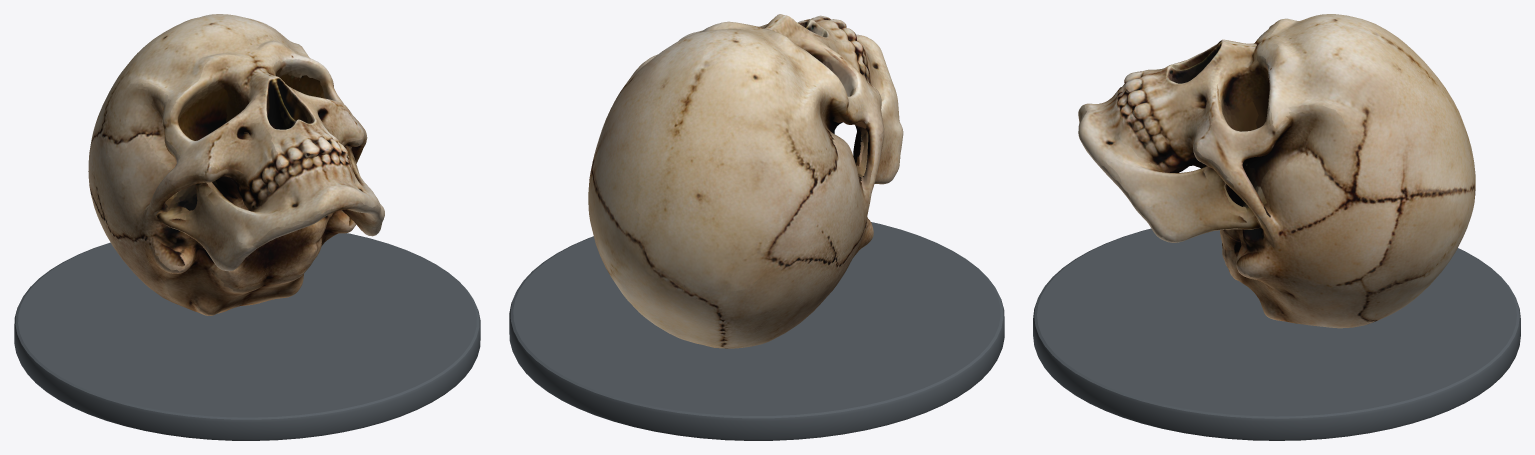
The model's file is death-skull-c1d9470a2def.glb.
The picture shows the model from 3 angles, left to right: view 1: azimuth 30°, elevation 25°; view 2: azimuth 150°, elevation 25°; view 3: azimuth 270°, elevation 25°; orthographic projection. The views are drawn at different scales.
Parts seen in each view (by area): view 1: death-skull_round_base, death-skull_bone; view 2: death-skull_bone, death-skull_round_base; view 3: death-skull_bone, death-skull_round_base.
Boxes of the visible parts, left/top/right/bottom form: death-skull_round_base: left=14, top=233, right=480, bottom=440; death-skull_bone: left=88, top=14, right=384, bottom=315; death-skull_bone: left=588, top=14, right=903, bottom=348; death-skull_round_base: left=509, top=222, right=1004, bottom=440; death-skull_bone: left=1078, top=14, right=1475, bottom=328; death-skull_round_base: left=1033, top=228, right=1520, bottom=440.
Size of the model in its own units: 1 by 0.7139 by 1.
Materials: 2 (1 with a texture image).
